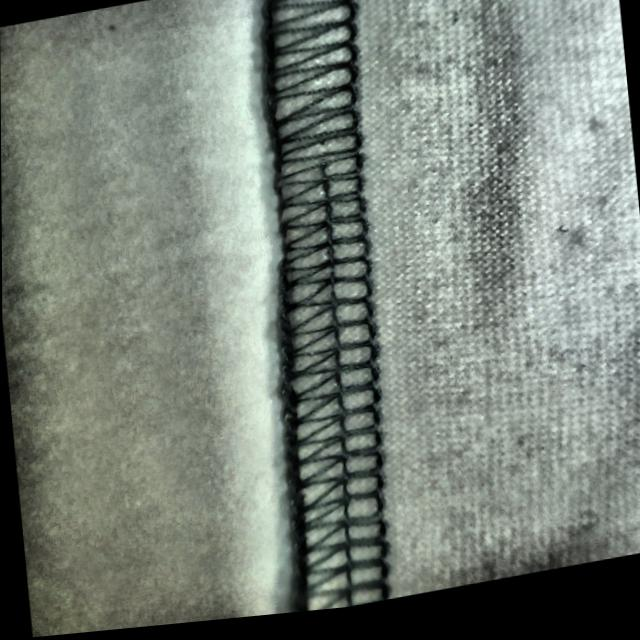Stitch: (246, 0, 392, 377)
